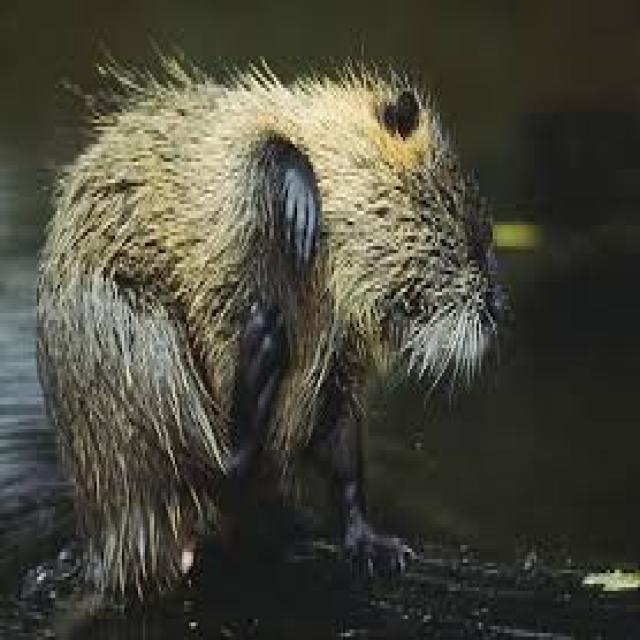rat: (32, 35, 514, 605)
